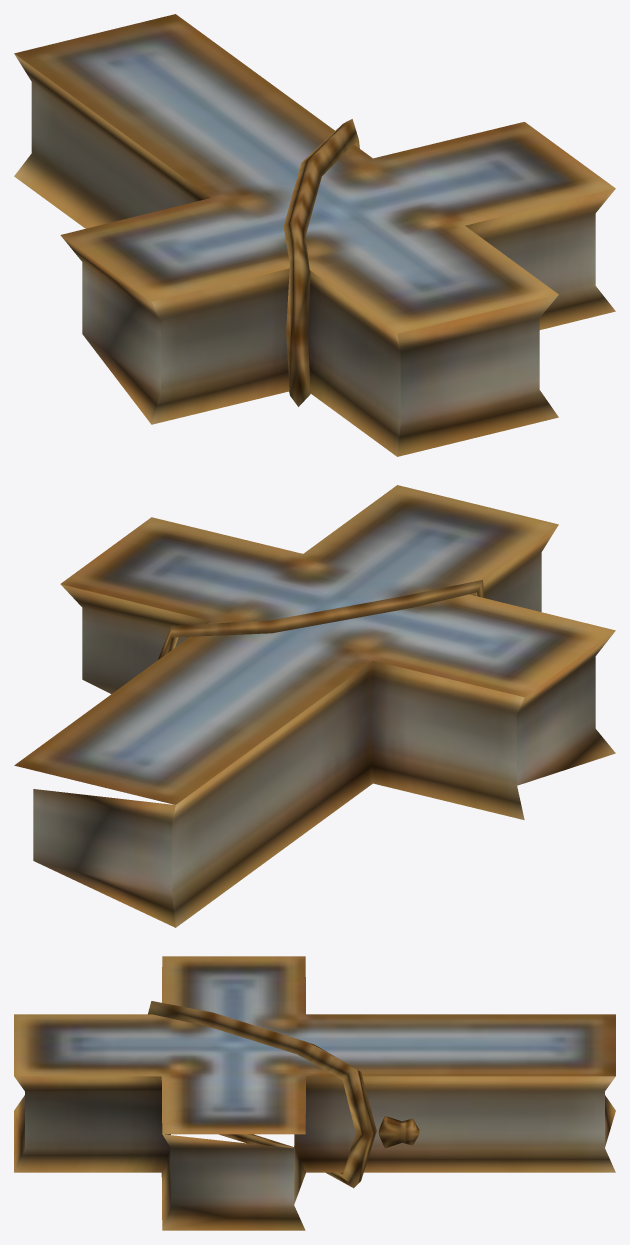
File: holyCodex.glb
3 renders of one model, top to bottom at view 1: azimuth 30°, elevation 25°; view 2: azimuth 150°, elevation 25°; view 3: azimuth 270°, elevation 25°, orthographic. The views are drawn at different scales.
Visible parts, largest first — view 1: holyCodex; view 2: holyCodex; view 3: holyCodex.
Part boxes in pixels (<box>): holyCodex: <box>14,14,615,456</box>; holyCodex: <box>14,485,615,927</box>; holyCodex: <box>14,956,615,1230</box>.
Bounding box in the file's own units: 0.2892 × 0.0911 × 0.4134.
1 material, 1 textured.
